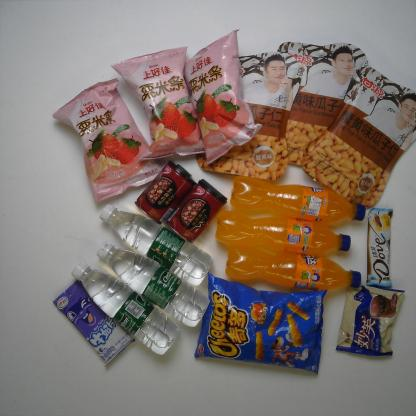Candy: (51, 279, 136, 368)
Canned Food: (133, 159, 198, 226), (166, 177, 228, 244)
Chocolate: (365, 206, 393, 288)
Dessert: (334, 284, 405, 358)
Dried Fruit: (300, 65, 416, 210), (194, 50, 303, 182), (275, 40, 370, 166)
Drink: (71, 261, 182, 356), (97, 240, 211, 328), (98, 203, 216, 287), (228, 172, 367, 222), (214, 208, 352, 258), (225, 244, 362, 293)
Puffed Food: (50, 76, 162, 205), (193, 272, 328, 376), (110, 46, 206, 162), (183, 28, 263, 167)
